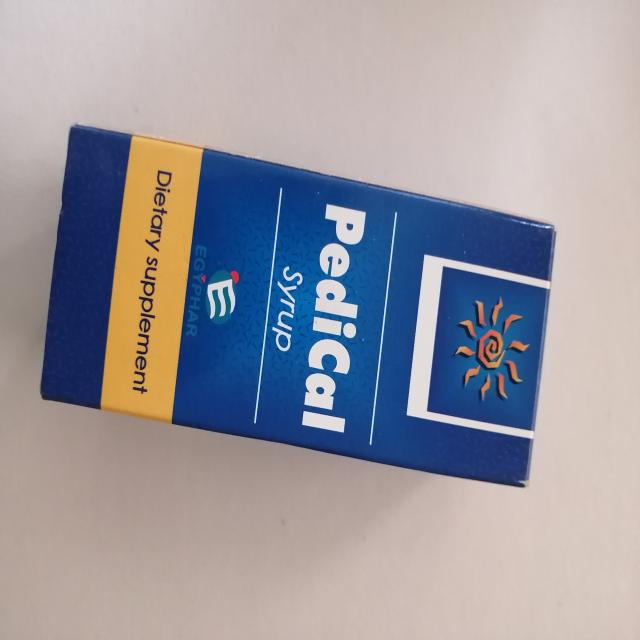Medicine: (38, 120, 557, 494)
